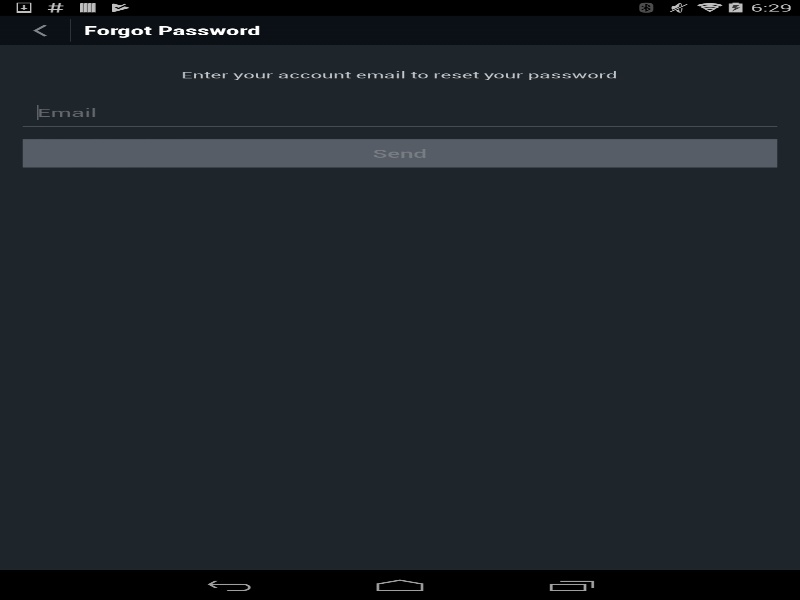Input: (37, 98, 777, 125)
